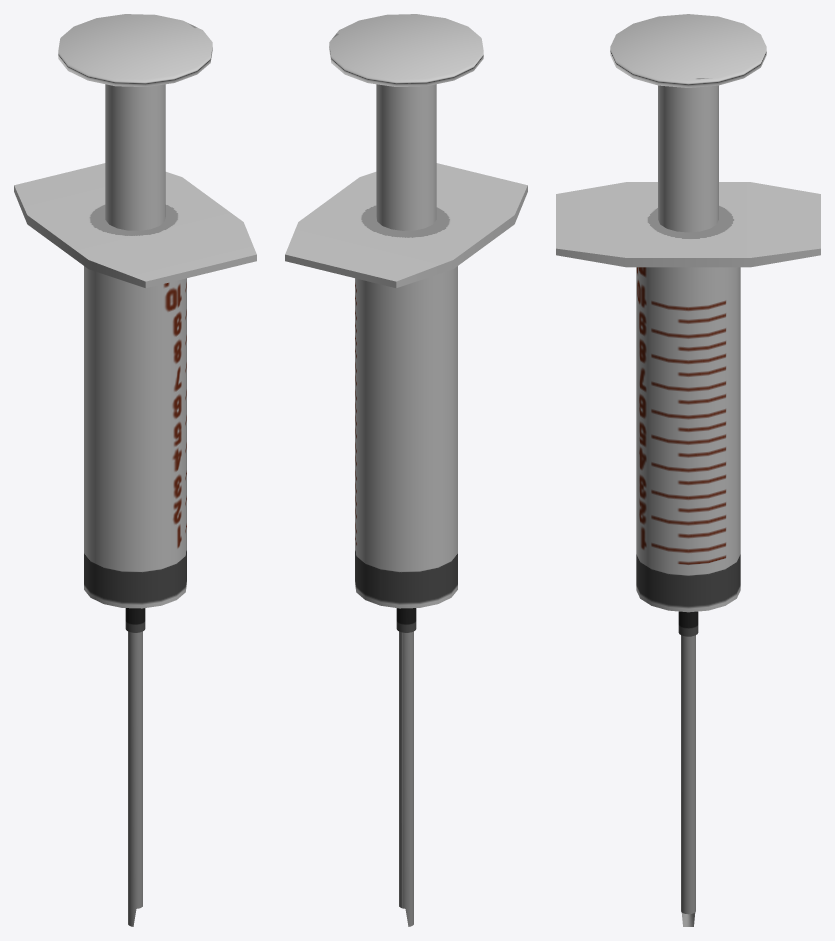
File: Env_LabDesk_Object_SyringeEmpty.fbx
The picture shows the model from 3 angles, left to right: view 1: azimuth 30°, elevation 25°; view 2: azimuth 150°, elevation 25°; view 3: azimuth 270°, elevation 25°; orthographic projection.
Parts seen in each view (by area): view 1: polySurface1; view 2: polySurface1; view 3: polySurface1.
Boxes of the visible parts, x1,y1,x2,y2 form: polySurface1: (14,14,256,926); polySurface1: (285,14,527,926); polySurface1: (556,14,820,926).
Bounding box in the file's own units: 2.11 × 11.38 × 3.09.
1 material, 1 textured.
